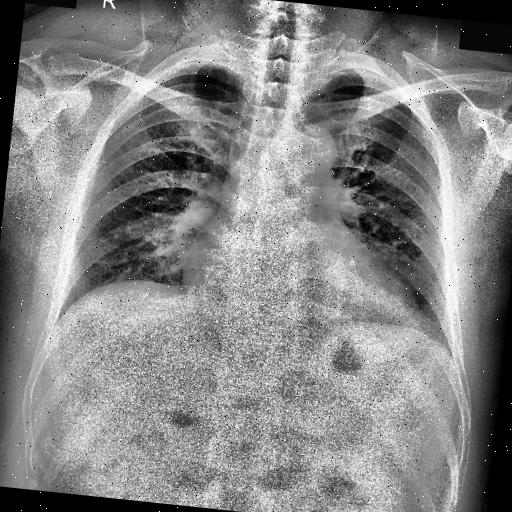0- Aortic enlargement: (268, 117, 336, 180), (278, 124, 340, 188), (278, 119, 338, 176)
3- Cardiomegaly: (178, 236, 429, 343), (180, 228, 434, 332), (178, 248, 428, 329)
